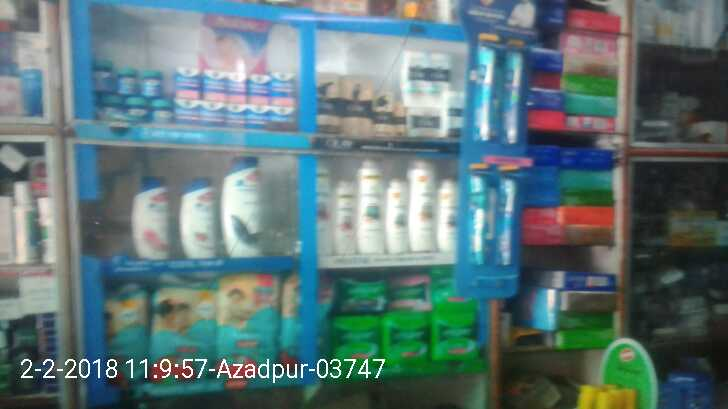vicks: (177, 60, 299, 130), (93, 55, 170, 123)
